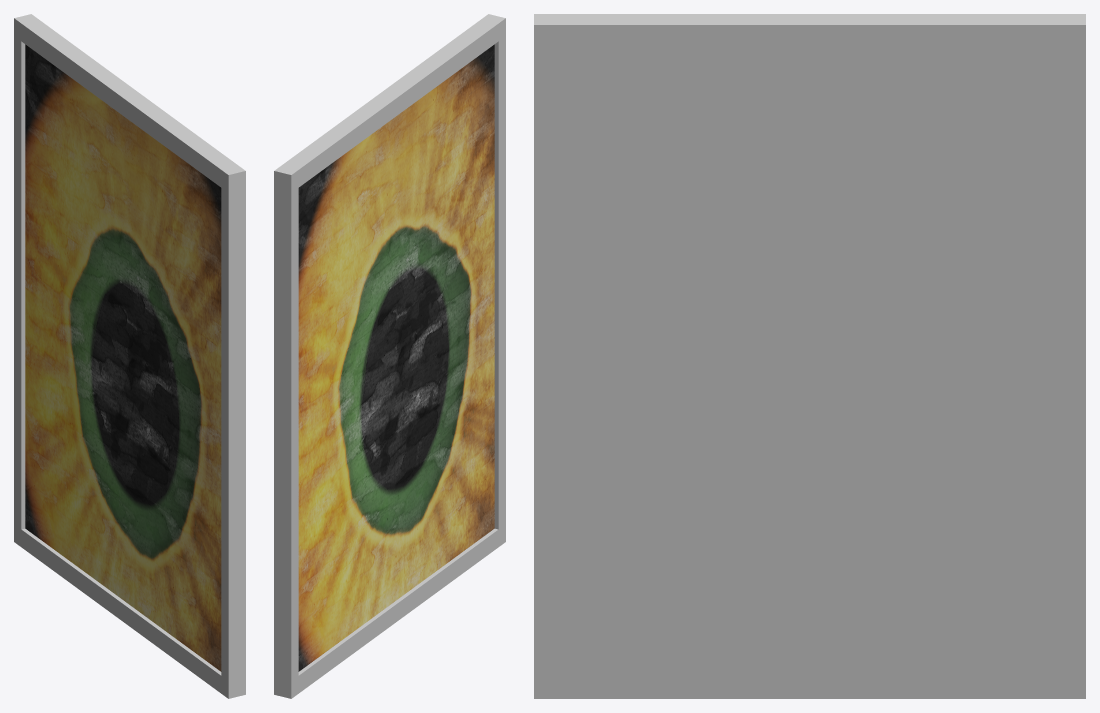
File: Eye_Painting_Mapped 1.fbx
3 renders of one model, left to right at view 1: azimuth 30°, elevation 25°; view 2: azimuth 150°, elevation 25°; view 3: azimuth 270°, elevation 25°, orthographic. The views are drawn at different scales.
Parts seen in each view (by area): view 1: Painting 2; view 2: Painting 2; view 3: Painting 2.
Part boxes in pixels (x1=…): Painting 2: x1=14, y1=14, x2=245, y2=698; Painting 2: x1=274, y1=14, x2=505, y2=698; Painting 2: x1=534, y1=14, x2=1085, y2=698.
Size of the model in its own units: 4.22 by 122 by 90.53.
